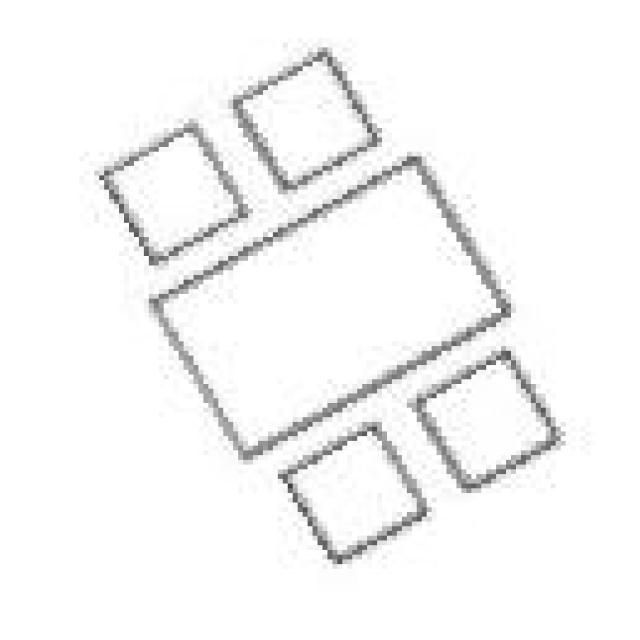table: (89, 38, 561, 559)
